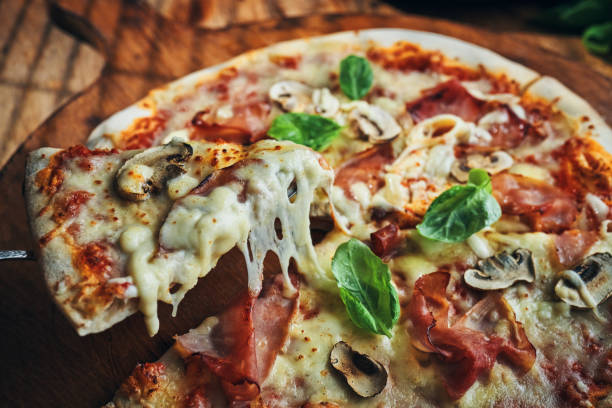Pizza: (25, 14, 597, 373)
